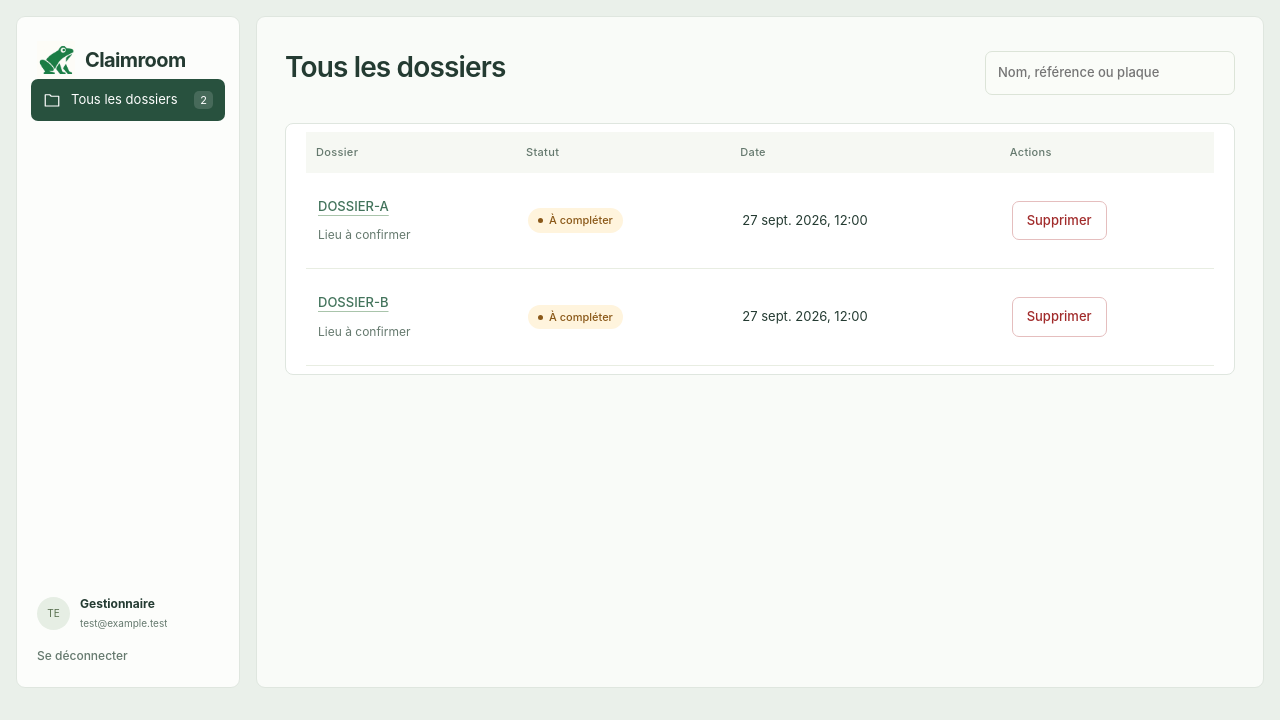
confirms deletion, prevents duplicate submissions, and updates the list and count
Click the button with aria-label "Supprimer le dossier DOSSIER-A" at (1059, 221), box [1012,201,1107,240]
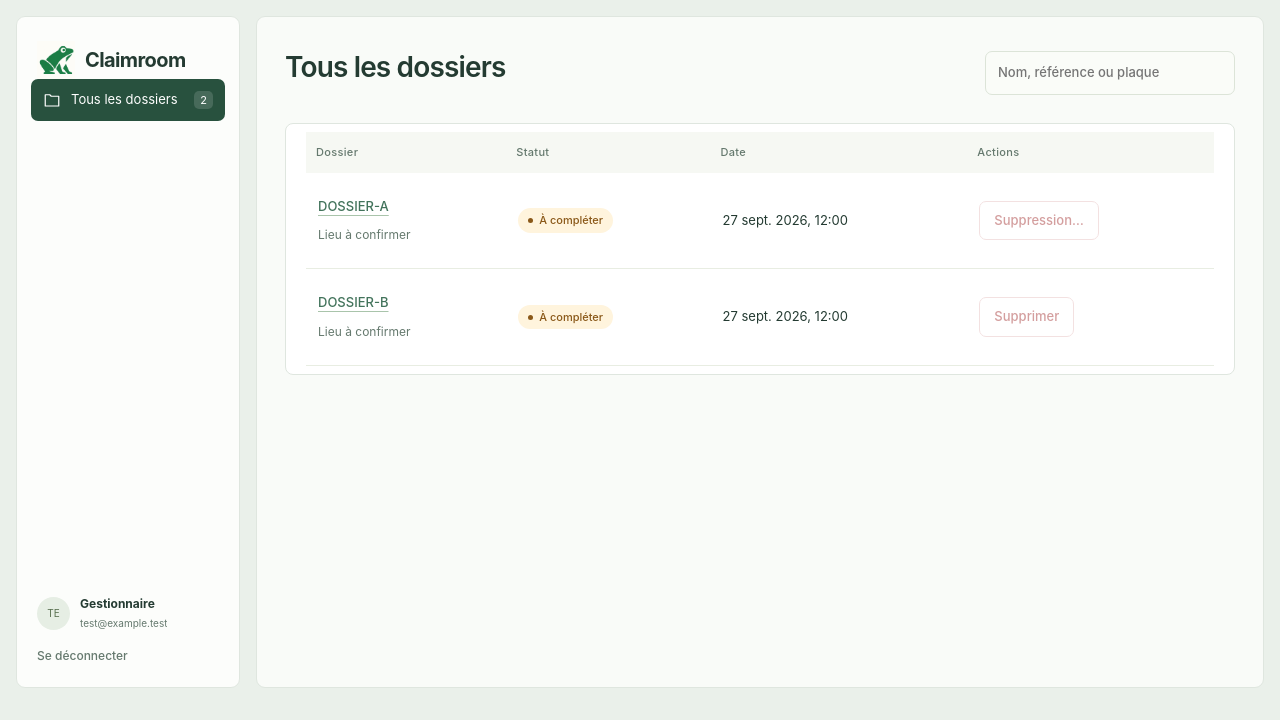
Check: the button with aria-label "Supprimer le dossier DOSSIER-A" is disabled
Check: the button "Suppression…" is shown
Click the button "Suppression…" at (1039, 221), box [979,201,1099,240]
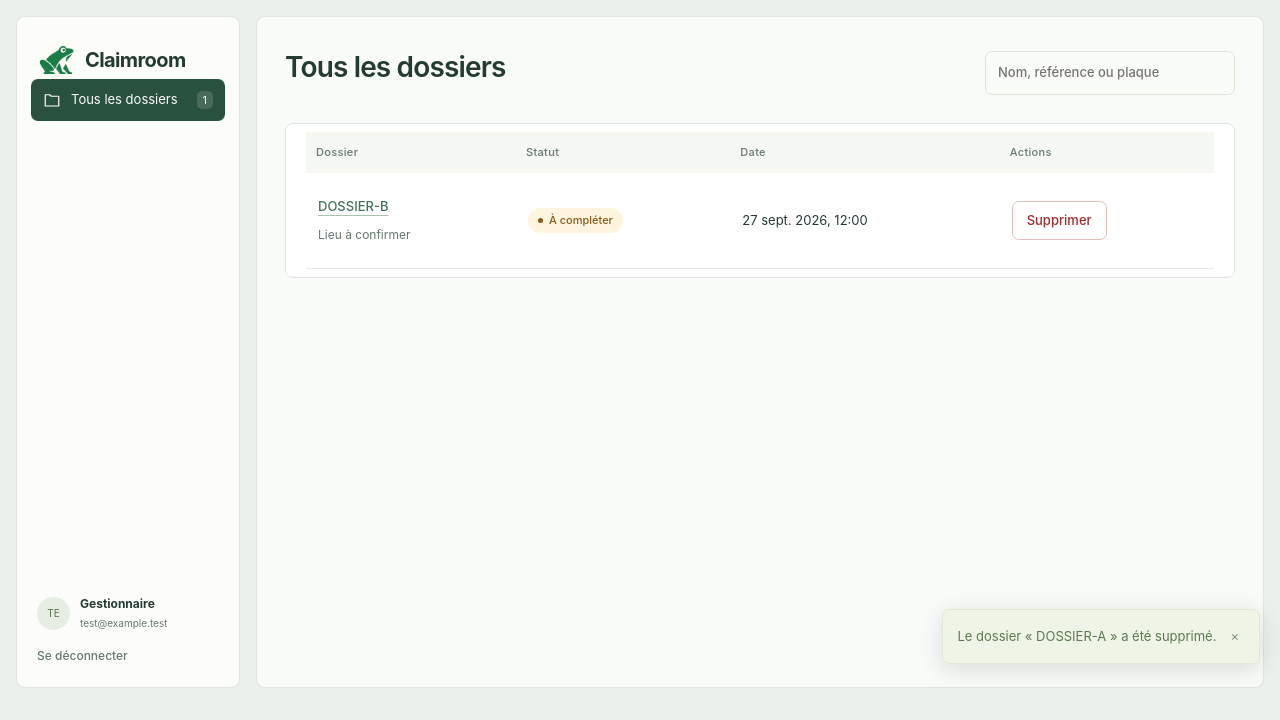
Check: the link "DOSSIER-B" is shown, box [318,198,388,214]
Check: the link "Tous les dossiers 1" is shown, box [31,79,225,120]
Check: the message shows "a été supprimé", box [958,628,1216,644]
